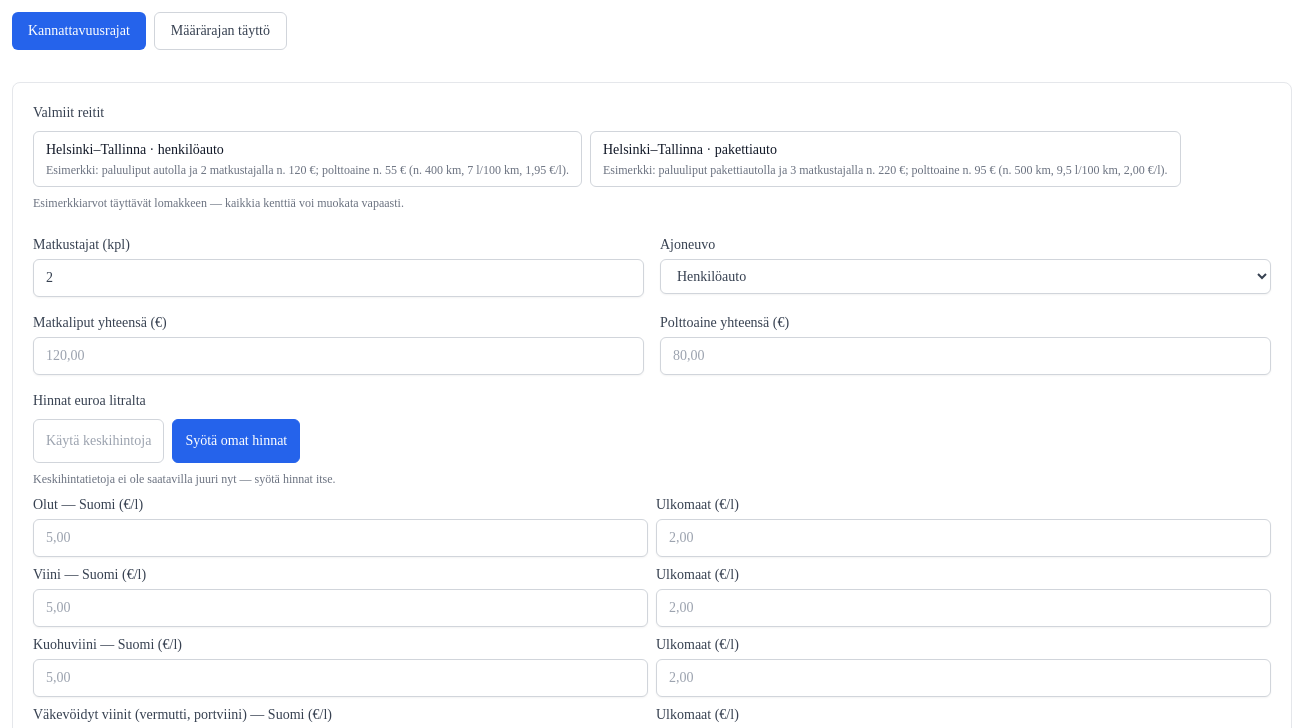
TripView form pass (task 4.7) › shows a specific inline validation message for a bad ticket value
The width and height of the screenshot is (1292, 728).
Type "0,00" into the field labelled "Matkaliput yhteensä (€)" at (338, 356), box x1=33 y1=337 x2=644 y2=375
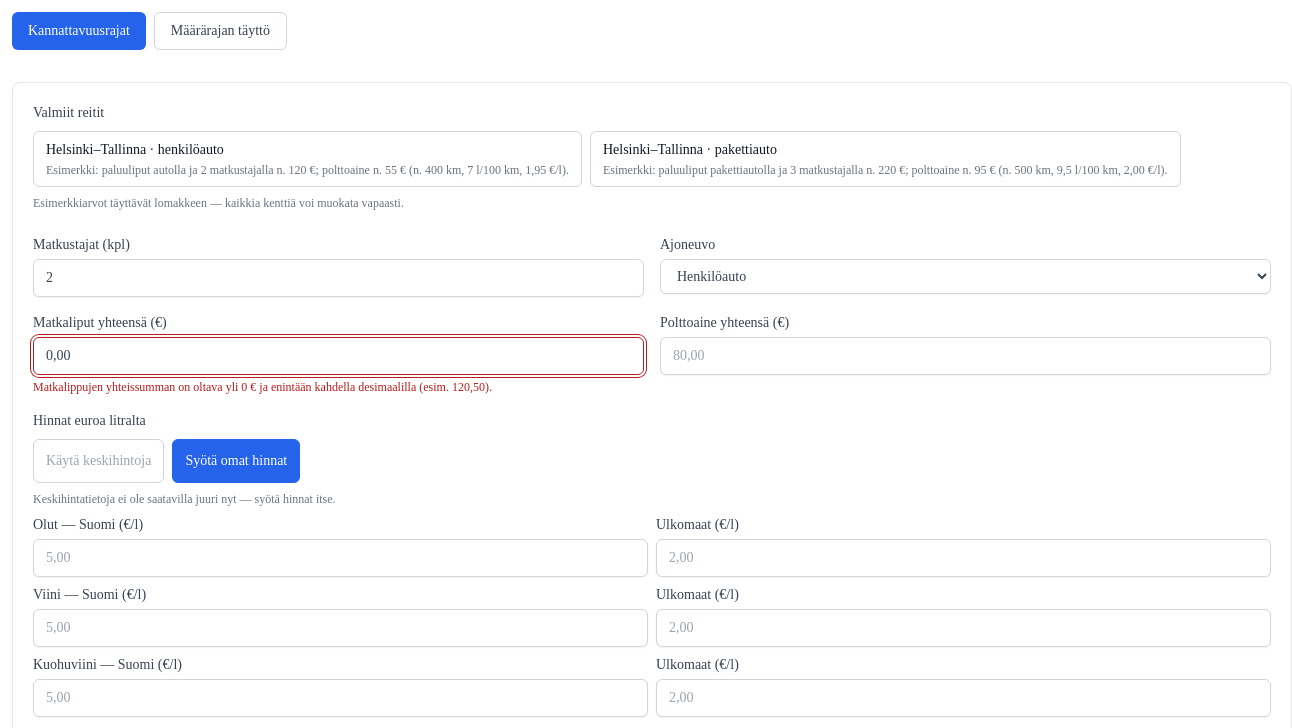
Expected: the text "Matkalippujen yhteissumman on oltava yli 0 € ja enintään kahdella desimaalilla (esim. 120,50)." is shown, x1=33 y1=380 x2=492 y2=394
